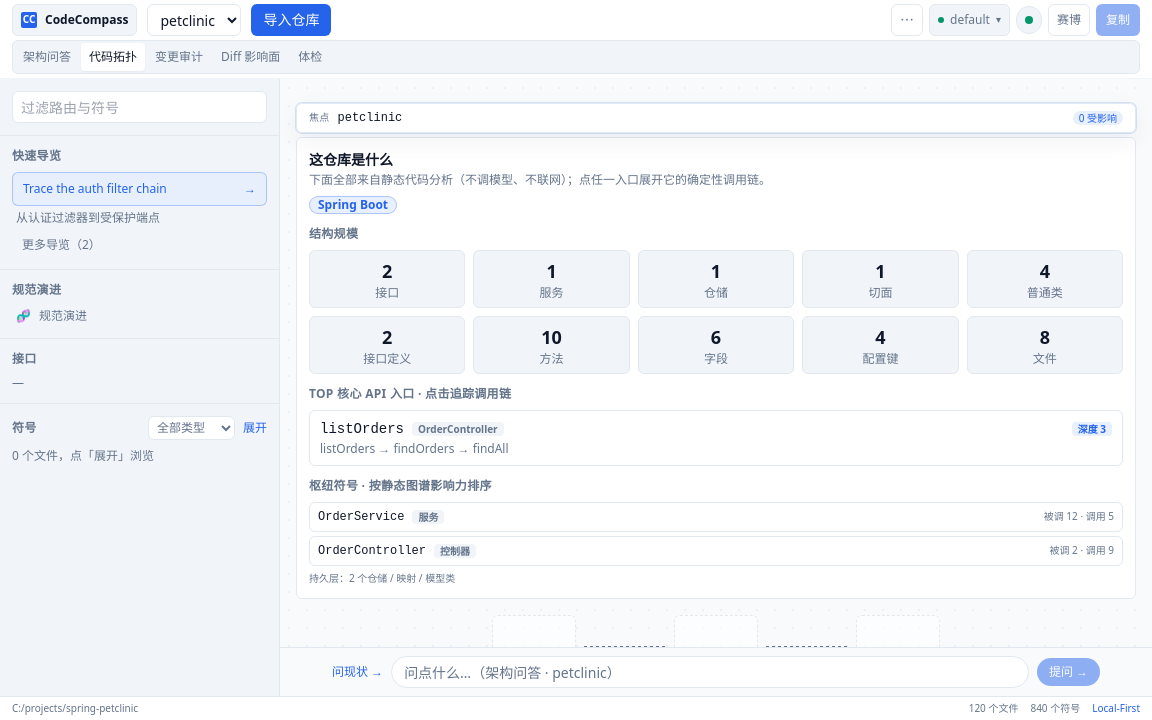
Test: App scaffold and repo connect › surfaces an import failure without closing the dialog
Click the button with test id "open-import": point(291, 20) [251, 4, 331, 36]
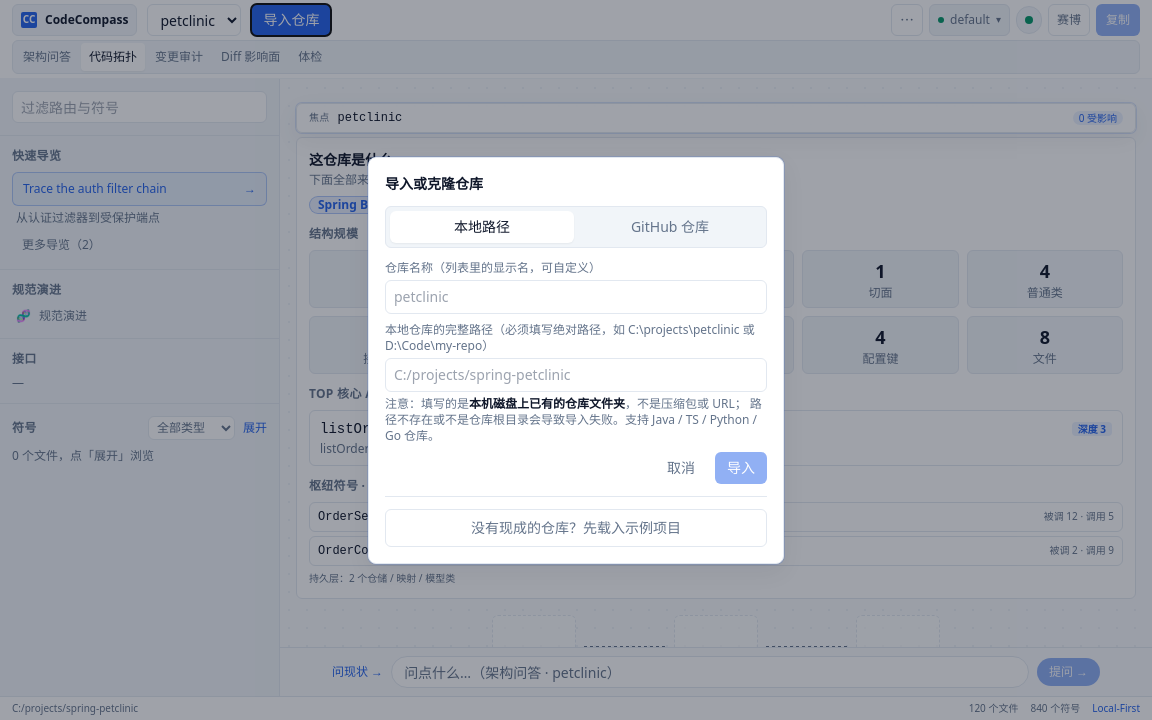
In the field with test id "import-name": point(576, 296) [385, 280, 767, 314], type "bad"
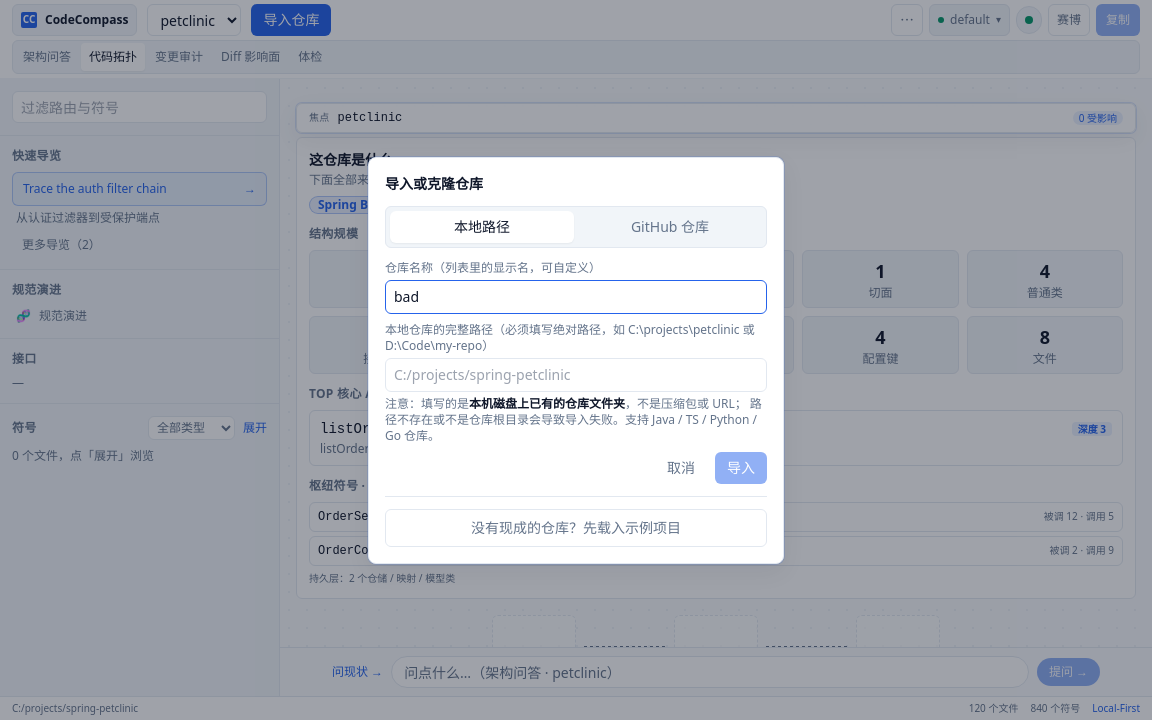
In the field with test id "import-path": point(576, 374) [385, 358, 767, 392], type "C:/nope"
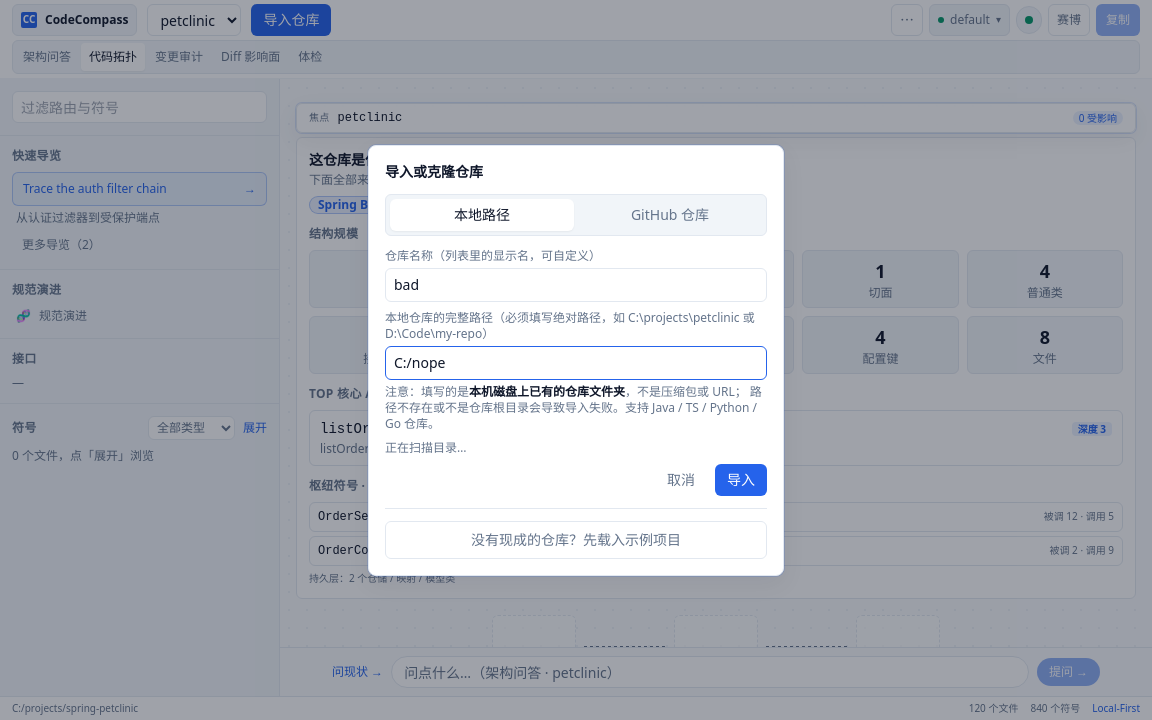
Click the button with test id "import-submit": point(741, 480) [715, 464, 767, 496]
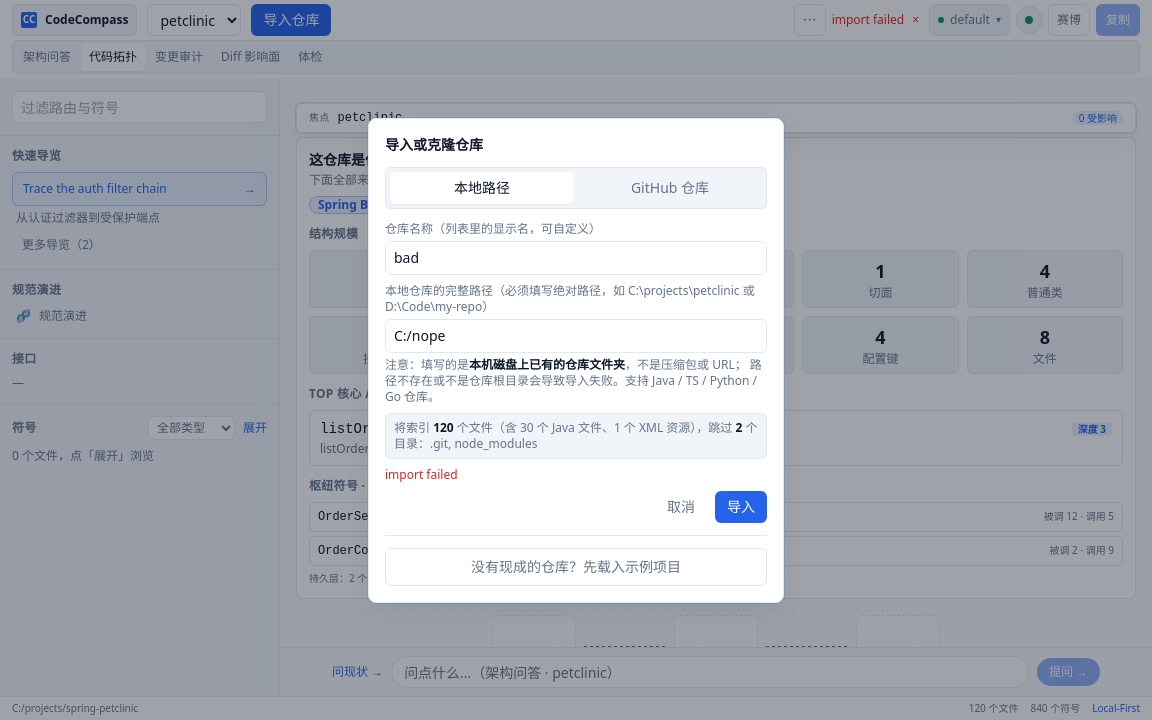
Expected: the dialog with test id "import-dialog" is shown
Expected: the dialog with test id "import-dialog" shows "import failed", [385, 466, 458, 482]
